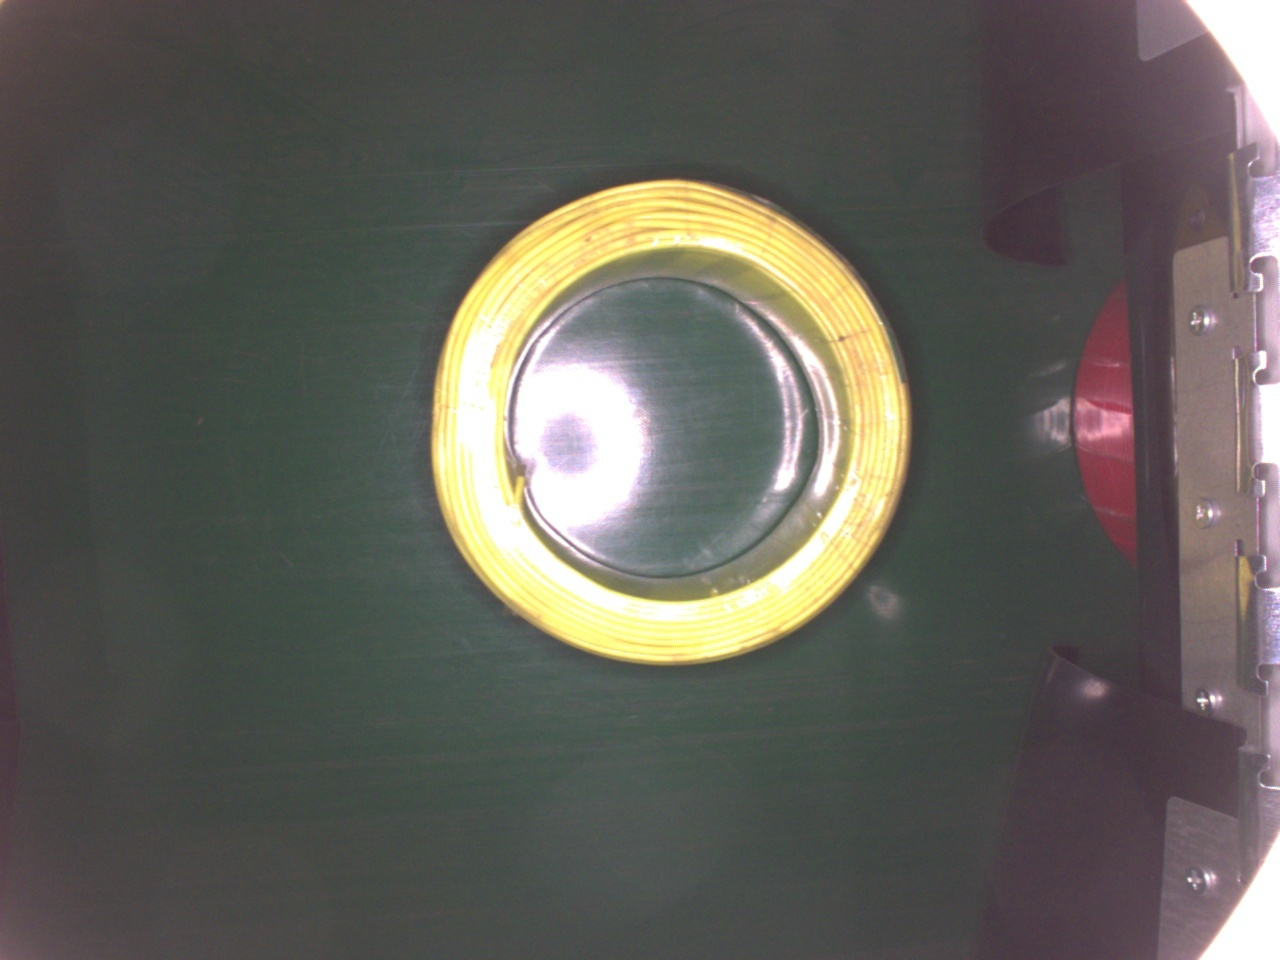yellow: (433, 177, 917, 670)
